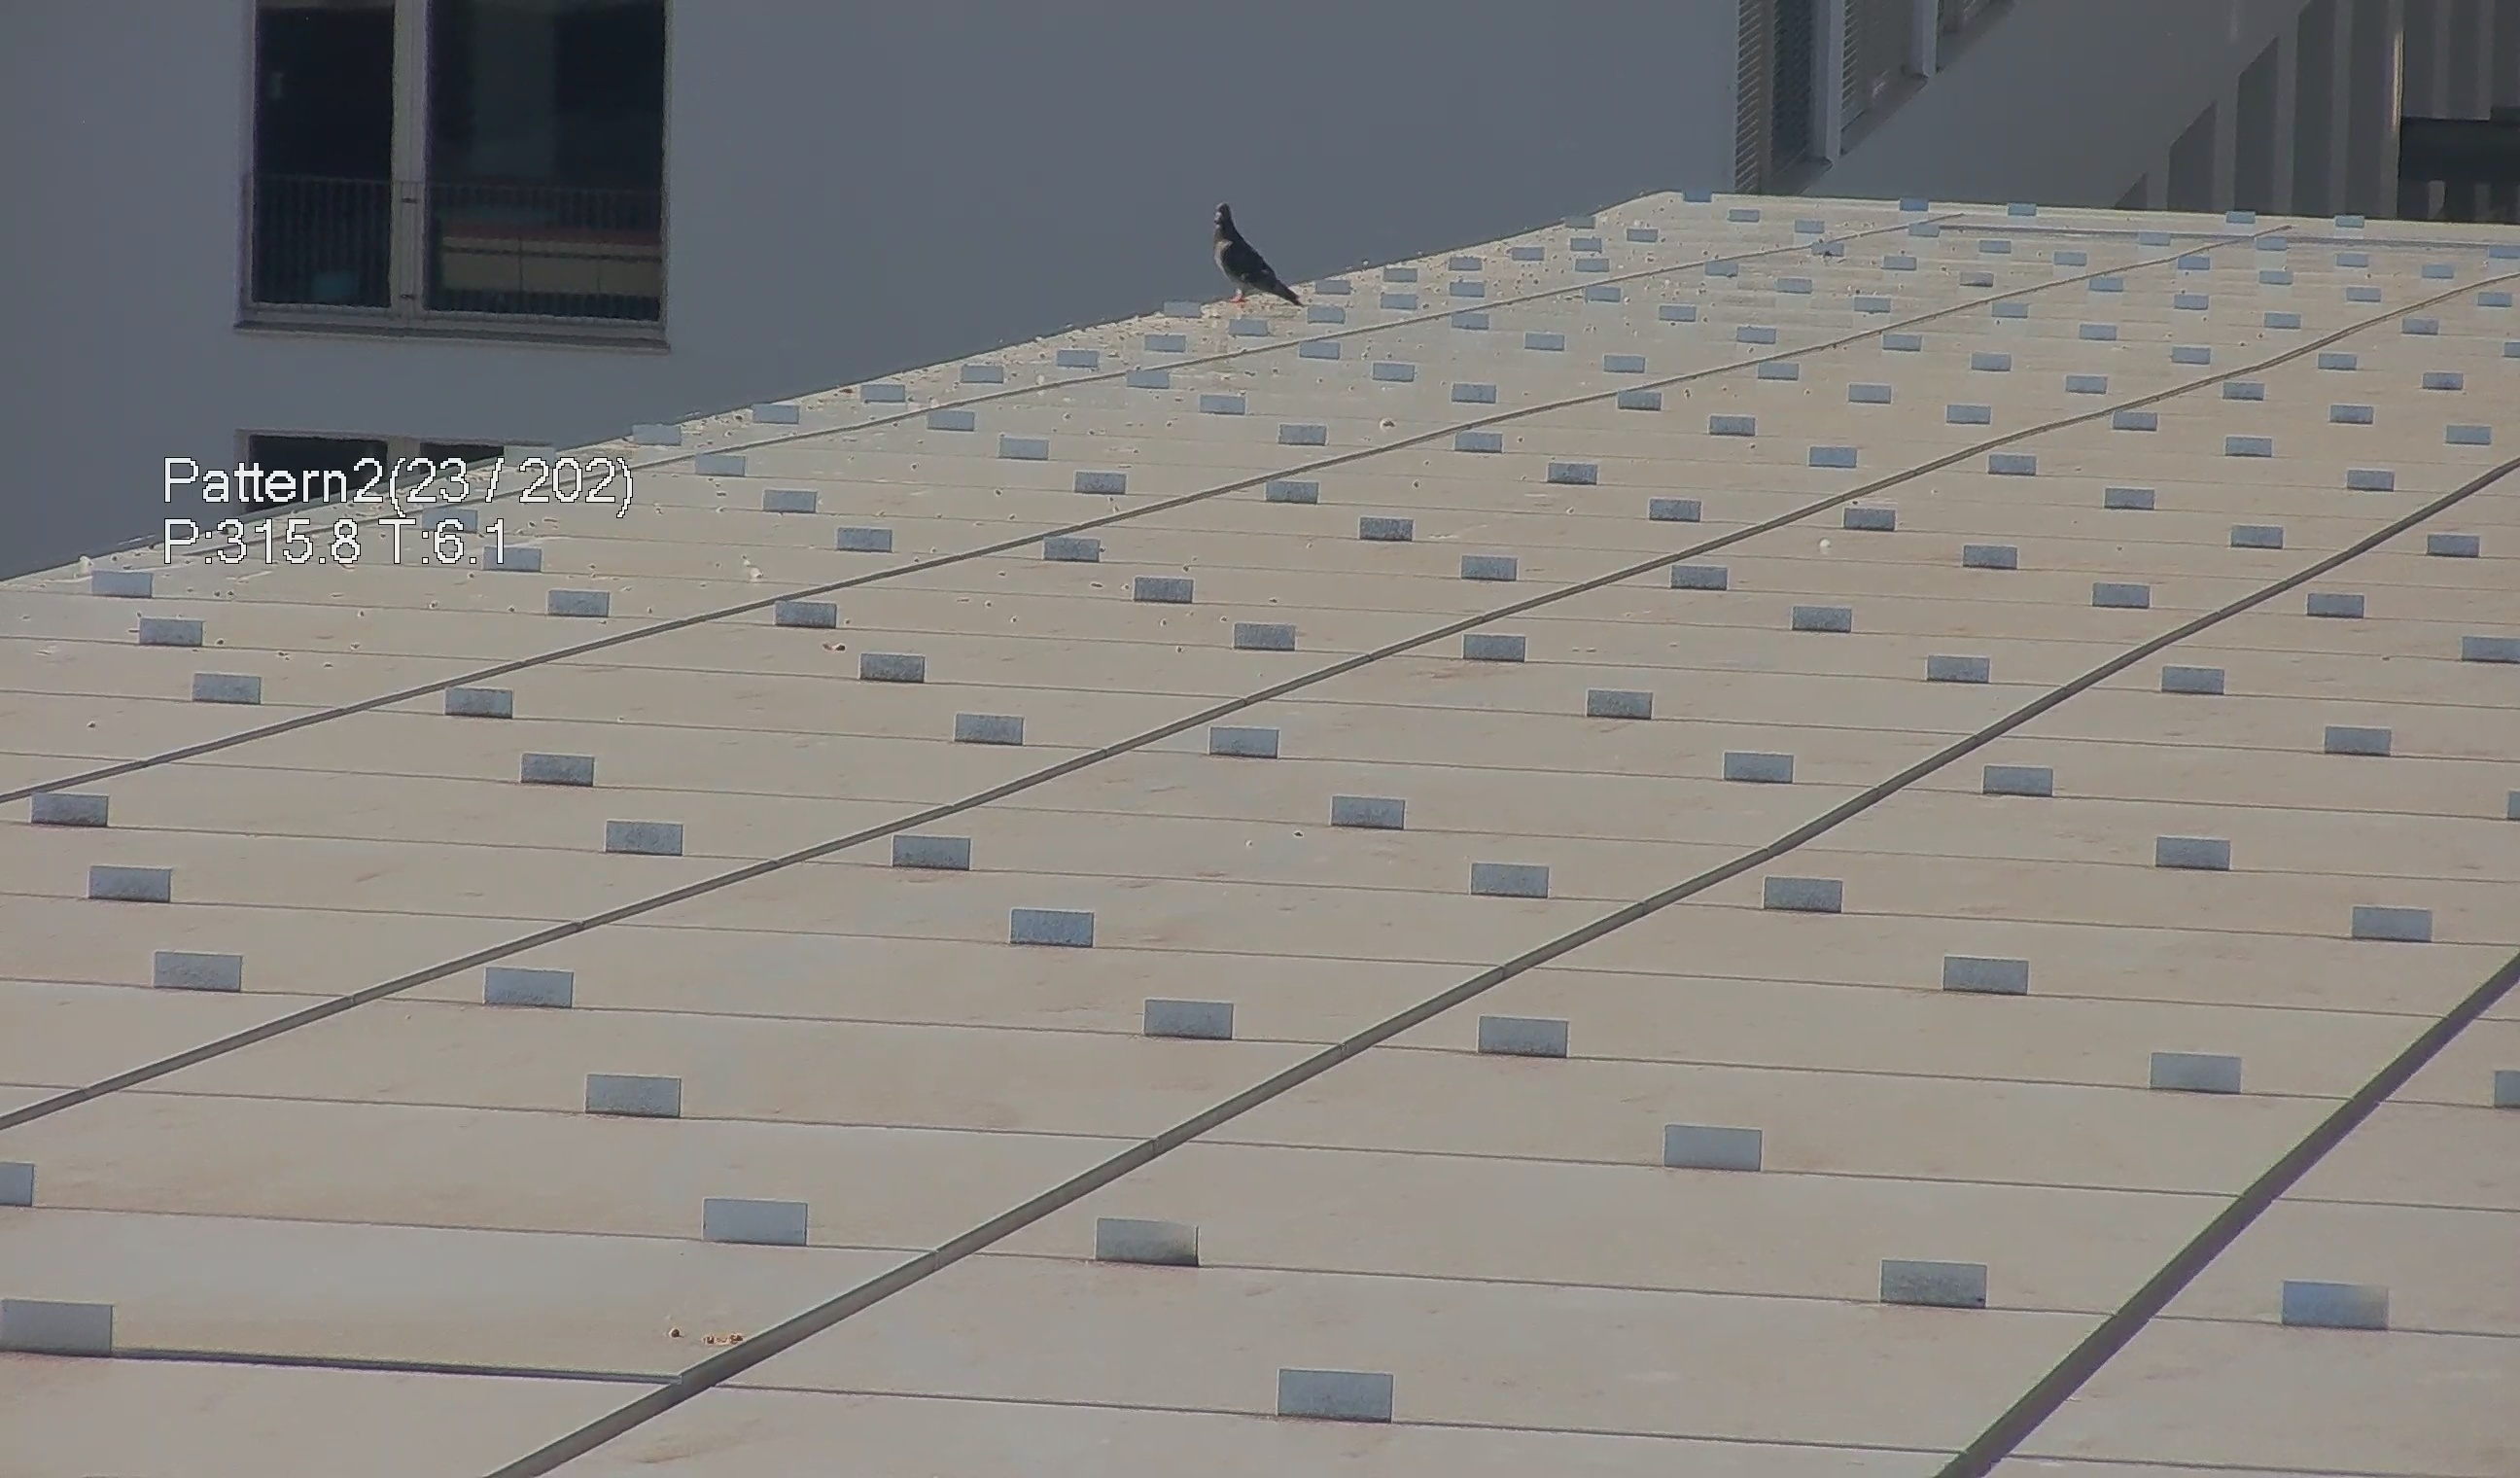Pigeon: (1199, 188, 1312, 315)
